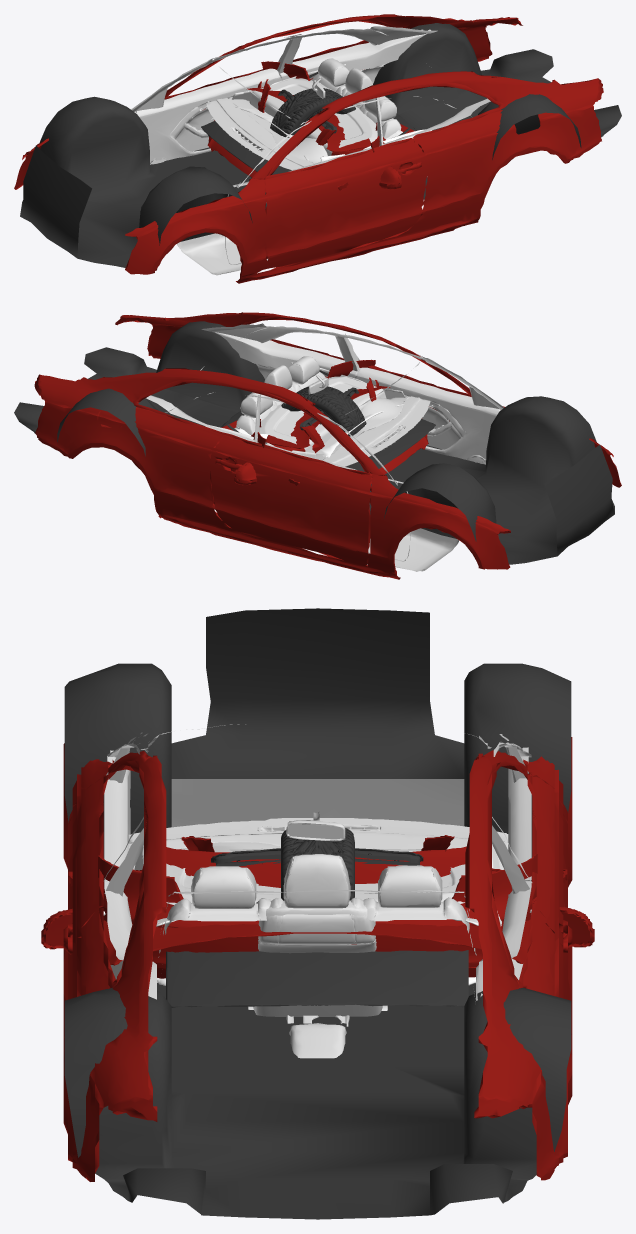
The model's file is gc_car2.glb.
3 views of the same model, one above another, from view 1: azimuth 30°, elevation 25°; view 2: azimuth 150°, elevation 25°; view 3: azimuth 270°, elevation 25° (orthographic). The views are drawn at different scales.
Visible parts, largest first — view 1: Obj3d66_4616838_38_854, Obj3d66_4616838_26_216, Obj3d66_4616838_25_418, Obj3d66_4616838_49_12, Obj3d66_4616838_21_920, Obj3d66_4616838_30_175, Obj3d66_4616838_28_213, Obj3d66_4616838_63_449, Obj3d66_4616838_12_95, Obj3d66_4616838_82_272, Obj3d66_4616838_10_501, Obj3d66_4616838_37_582 (+3 smaller); view 2: Obj3d66_4616838_38_854, Obj3d66_4616838_26_216, Obj3d66_4616838_25_418, Obj3d66_4616838_49_12, Obj3d66_4616838_21_920, Obj3d66_4616838_30_175, Obj3d66_4616838_28_213, Obj3d66_4616838_82_272, Obj3d66_4616838_12_95, Obj3d66_4616838_63_449, Obj3d66_4616838_37_582, Obj3d66_4616838_10_501 (+2 smaller); view 3: Obj3d66_4616838_26_216, Obj3d66_4616838_38_854, Obj3d66_4616838_25_418, Obj3d66_4616838_28_213, Obj3d66_4616838_49_12, Obj3d66_4616838_30_175, Obj3d66_4616838_10_501, Obj3d66_4616838_45_346, Obj3d66_4616838_37_582, Obj3d66_4616838_12_95, Obj3d66_4616838_44_792, Obj3d66_4616838_35_493 (+5 smaller).
Boxes of the visible parts, box(x1,y1,x2,y2) form: Obj3d66_4616838_38_854: box(14, 14, 603, 283); Obj3d66_4616838_26_216: box(20, 23, 621, 267); Obj3d66_4616838_25_418: box(130, 26, 490, 275); Obj3d66_4616838_49_12: box(206, 78, 327, 170); Obj3d66_4616838_21_920: box(250, 78, 377, 155); Obj3d66_4616838_30_175: box(312, 58, 401, 138); Obj3d66_4616838_28_213: box(201, 113, 416, 174); Obj3d66_4616838_63_449: box(272, 90, 349, 137); Obj3d66_4616838_12_95: box(246, 87, 370, 152); Obj3d66_4616838_82_272: box(270, 89, 320, 135); Obj3d66_4616838_10_501: box(261, 61, 385, 190); Obj3d66_4616838_37_582: box(207, 78, 414, 177); Obj3d66_4616838_38_854: box(34, 312, 621, 579); Obj3d66_4616838_26_216: box(14, 321, 614, 564); Obj3d66_4616838_25_418: box(146, 323, 503, 571); Obj3d66_4616838_49_12: box(308, 375, 430, 466); Obj3d66_4616838_21_920: box(259, 376, 386, 453); Obj3d66_4616838_30_175: box(236, 356, 325, 435); Obj3d66_4616838_28_213: box(221, 411, 435, 471); Obj3d66_4616838_82_272: box(286, 388, 364, 436); Obj3d66_4616838_12_95: box(266, 385, 390, 448); Obj3d66_4616838_63_449: box(315, 386, 366, 434); Obj3d66_4616838_37_582: box(213, 376, 428, 485); Obj3d66_4616838_10_501: box(251, 359, 375, 485); Obj3d66_4616838_26_216: box(64, 608, 571, 1219); Obj3d66_4616838_38_854: box(63, 737, 572, 1181); Obj3d66_4616838_25_418: box(103, 724, 532, 1001); Obj3d66_4616838_28_213: box(166, 950, 468, 1007); Obj3d66_4616838_49_12: box(127, 811, 508, 1058); Obj3d66_4616838_30_175: box(158, 865, 476, 957); Obj3d66_4616838_10_501: box(68, 854, 567, 978); Obj3d66_4616838_45_346: box(250, 854, 387, 1016); Obj3d66_4616838_37_582: box(103, 920, 530, 965); Obj3d66_4616838_12_95: box(166, 846, 466, 887); Obj3d66_4616838_44_792: box(248, 854, 371, 1016); Obj3d66_4616838_35_493: box(211, 848, 423, 866).
Size of the model in its own units: 233 by 60.55 by 104.
